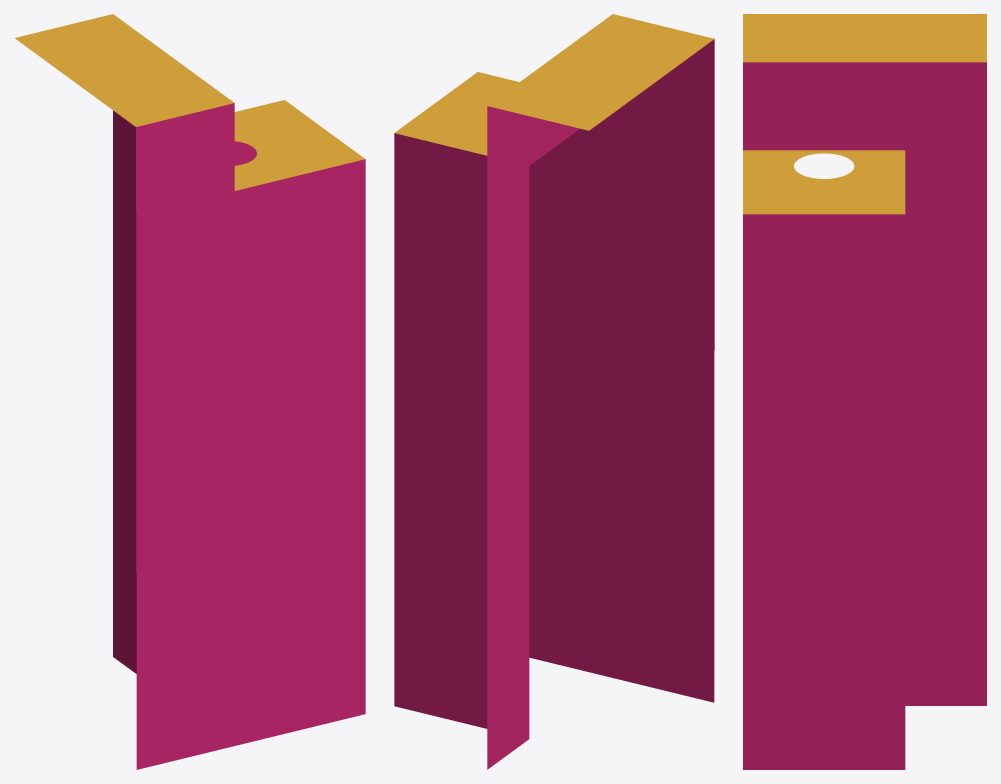
The model's file is 03endplatform.fbx.
The picture shows the model from 3 angles, left to right: view 1: azimuth 30°, elevation 25°; view 2: azimuth 150°, elevation 25°; view 3: azimuth 270°, elevation 25°; orthographic projection. The views are drawn at different scales.
Visible parts, largest first — view 1: Plane.008; view 2: Plane.008; view 3: Plane.008.
Part boxes in pixels (<box>): Plane.008: <box>15,14,365,769</box>; Plane.008: <box>394,14,714,769</box>; Plane.008: <box>743,14,986,769</box>.
Size of the model in its own units: 164 by 438 by 150.
